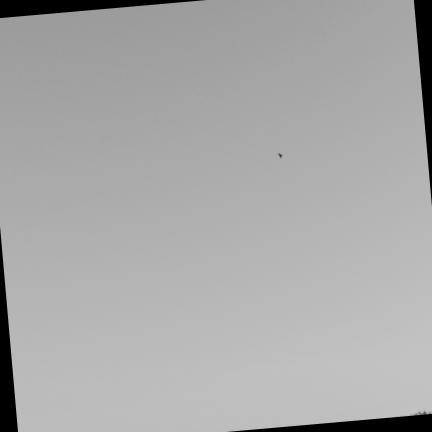Shahed: (278, 153, 282, 158)
